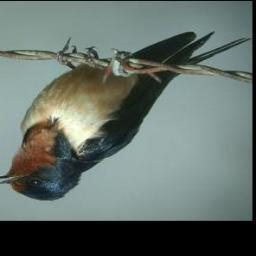Swallow: (0, 32, 252, 202)
